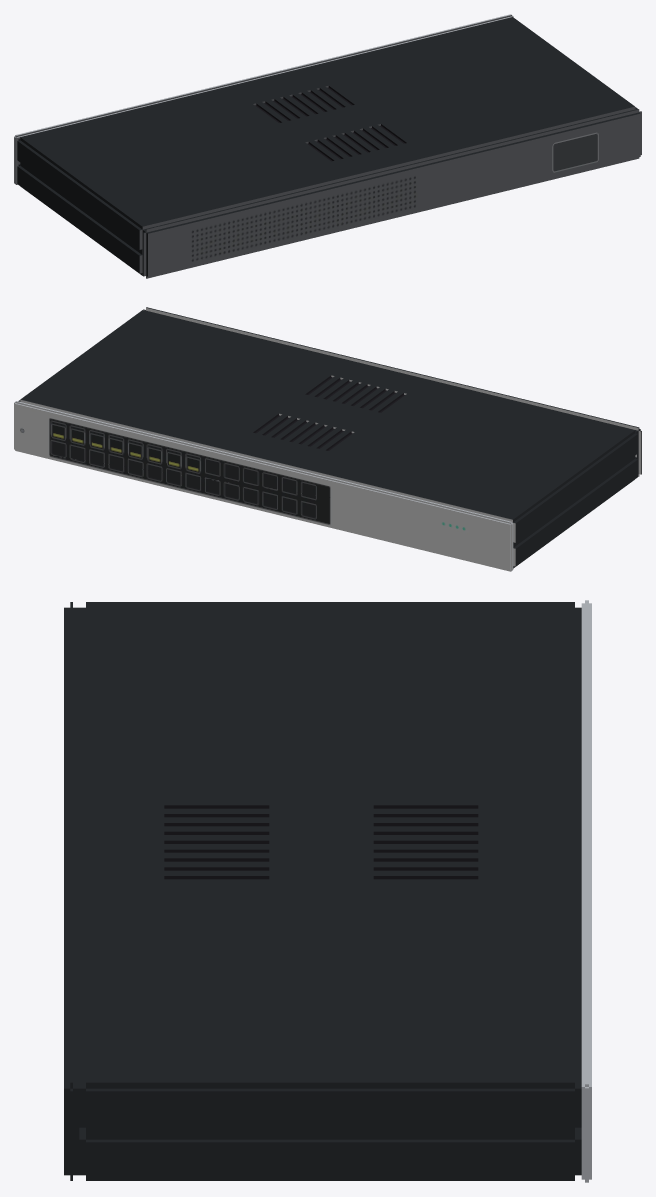
Rendered from cisco-sg350-managed-switch.glb.
The picture shows the model from 3 angles, top to bottom: view 1: azimuth 30°, elevation 25°; view 2: azimuth 150°, elevation 25°; view 3: azimuth 270°, elevation 25°; orthographic projection. The views are drawn at different scales.
Visible parts, largest first — view 1: cisco-sg350-managed-switch-body; view 2: cisco-sg350-managed-switch-body; view 3: cisco-sg350-managed-switch-body.
Part boxes in pixels (x1=…): cisco-sg350-managed-switch-body: x1=14, y1=14, x2=641, y2=278; cisco-sg350-managed-switch-body: x1=14, y1=307, x2=641, y2=571; cisco-sg350-managed-switch-body: x1=64, y1=600, x2=591, y2=1182.
Size of the model in its own units: 0.44 by 0.044 by 0.202.
1 material, 1 textured.
